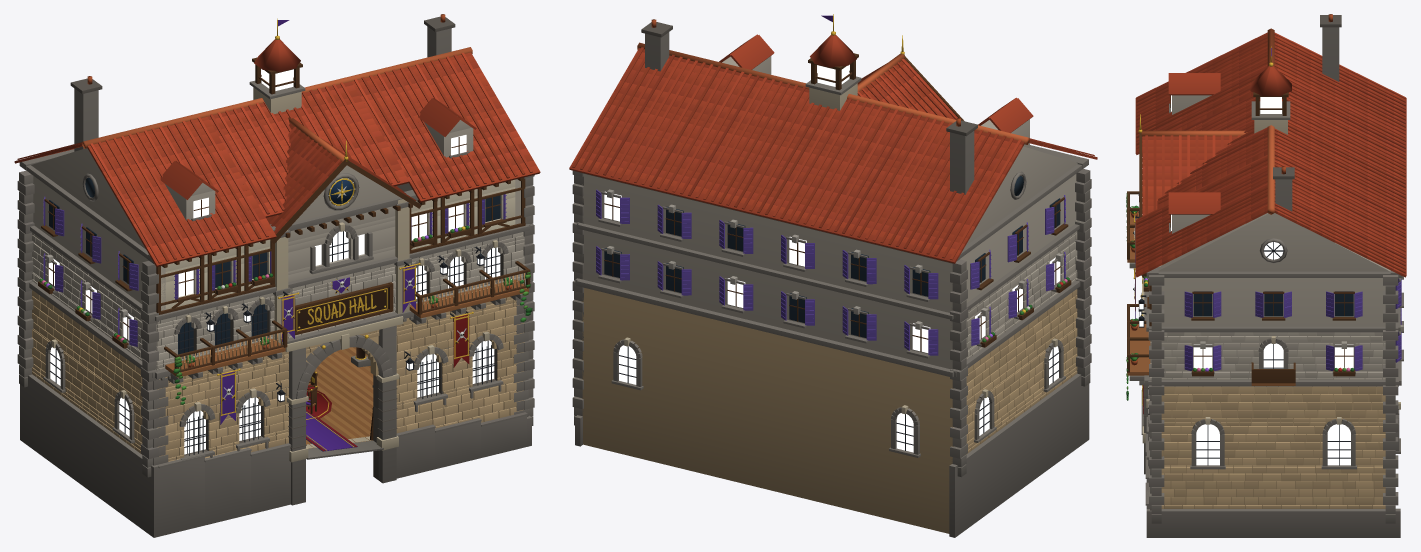
File: hill_big_shop.glb
The picture shows the model from 3 angles, left to right: view 1: azimuth 30°, elevation 25°; view 2: azimuth 150°, elevation 25°; view 3: azimuth 270°, elevation 25°; orthographic projection. The views are drawn at different scales.
Visible parts, largest first — view 1: hill_R0_LOD0; view 2: hill_R0_LOD0; view 3: hill_R0_LOD0.
Boxes of the visible parts, left/top/right/bottom form: hill_R0_LOD0: left=14, top=14, right=540, bottom=537; hill_R0_LOD0: left=569, top=14, right=1097, bottom=537; hill_R0_LOD0: left=1126, top=14, right=1406, bottom=537.
Size of what is drawn, in the model's own units: 25.75 by 26.49 by 16.66.
